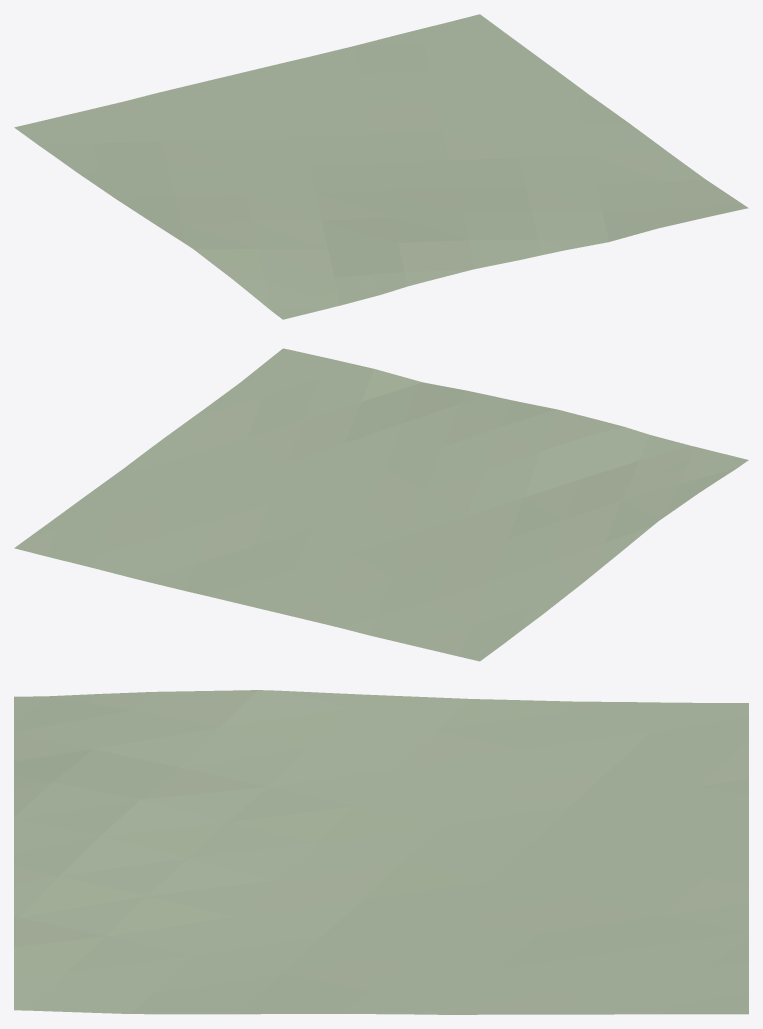
Rendered from SM_MPRR_Terrain_-3_-2.fbx.
3 views of the same model, one above another, from view 1: azimuth 30°, elevation 25°; view 2: azimuth 150°, elevation 25°; view 3: azimuth 270°, elevation 25° (orthographic). The views are drawn at different scales.
Parts seen in each view (by area): view 1: SM_MPRR_Terrain_-3_-2; view 2: SM_MPRR_Terrain_-3_-2; view 3: SM_MPRR_Terrain_-3_-2.
Part boxes in pixels (x1,y1,x2,y2): SM_MPRR_Terrain_-3_-2: (14, 14, 748, 319); SM_MPRR_Terrain_-3_-2: (14, 348, 748, 661); SM_MPRR_Terrain_-3_-2: (14, 690, 748, 1014).
Bounding box in the file's own units: 15000 × 15000 × 345.
